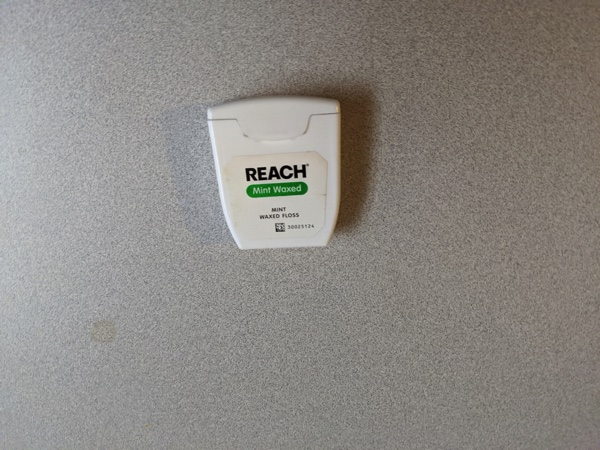plastic: (192, 68, 378, 264)
